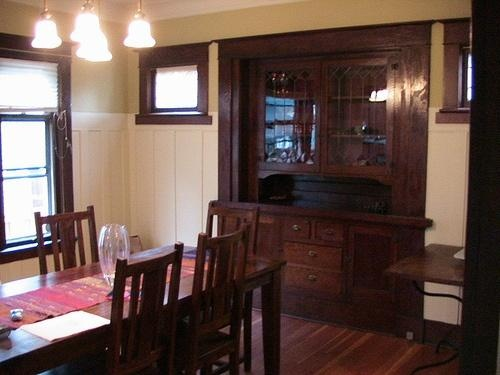chair: (73, 241, 186, 375), (167, 220, 252, 375), (205, 199, 263, 375), (32, 202, 102, 279)
diningtable: (1, 240, 291, 375)
